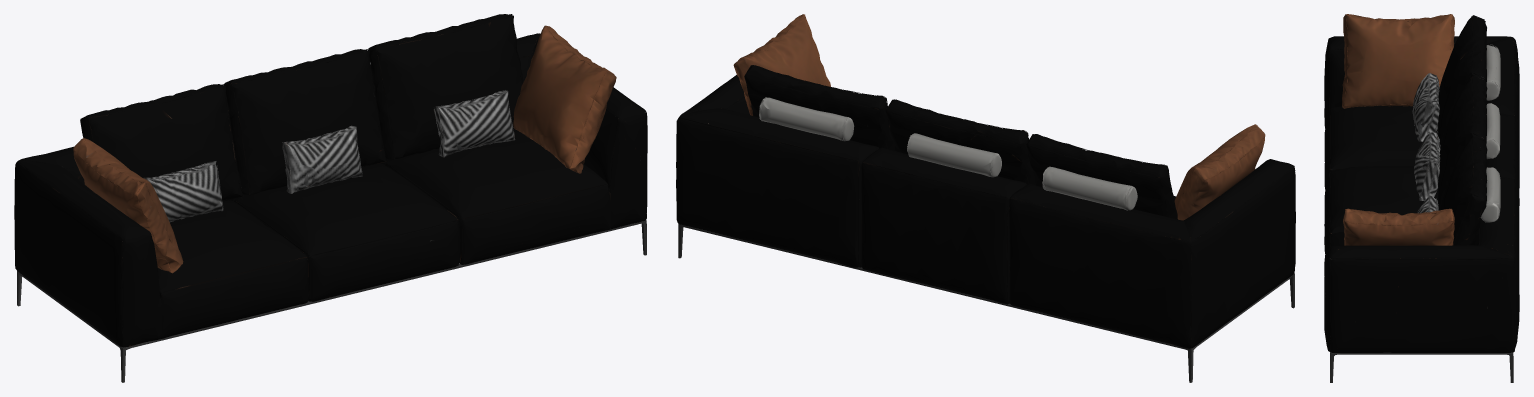
The model's file is raw_model.obj.
3 views of the same model, side by side, from view 1: azimuth 30°, elevation 25°; view 2: azimuth 150°, elevation 25°; view 3: azimuth 270°, elevation 25° (orthographic). The views are drawn at different scales.
Parts seen in each view (by area): view 1: solid_002, solid_003, solid_001, solid_004; view 2: solid_002, solid_003, solid_005, solid_004; view 3: solid_002, solid_003, solid_001, solid_005, solid_004.
Part boxes in pixels (x1=…): solid_002: x1=14, y1=14, x2=647, y2=347; solid_003: x1=73, y1=25, x2=616, y2=273; solid_001: x1=143, y1=89, x2=515, y2=222; solid_004: x1=17, y1=144, x2=646, y2=382; solid_002: x1=676, y1=65, x2=1295, y2=348; solid_003: x1=733, y1=14, x2=1265, y2=237; solid_005: x1=759, y1=97, x2=1137, y2=210; solid_004: x1=678, y1=224, x2=1294, y2=382; solid_002: x1=1324, y1=15, x2=1519, y2=352; solid_003: x1=1342, y1=14, x2=1454, y2=258; solid_001: x1=1412, y1=73, x2=1440, y2=213; solid_005: x1=1480, y1=44, x2=1500, y2=222; solid_004: x1=1330, y1=132, x2=1513, y2=382.
Bounding box in the file's own units: 2.2 × 0.7643 × 0.8083.
1 material, 1 textured.
